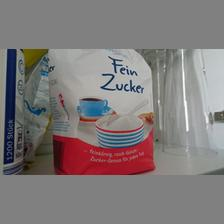Zucker: (46, 49, 154, 173)
